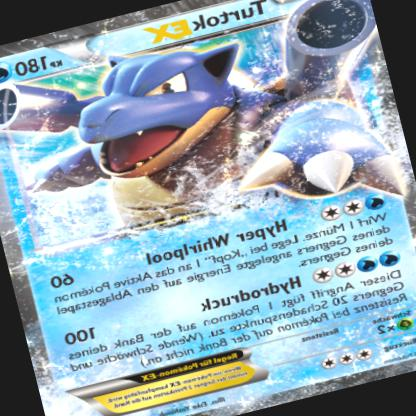Blastoise: (1, 1, 410, 260)
